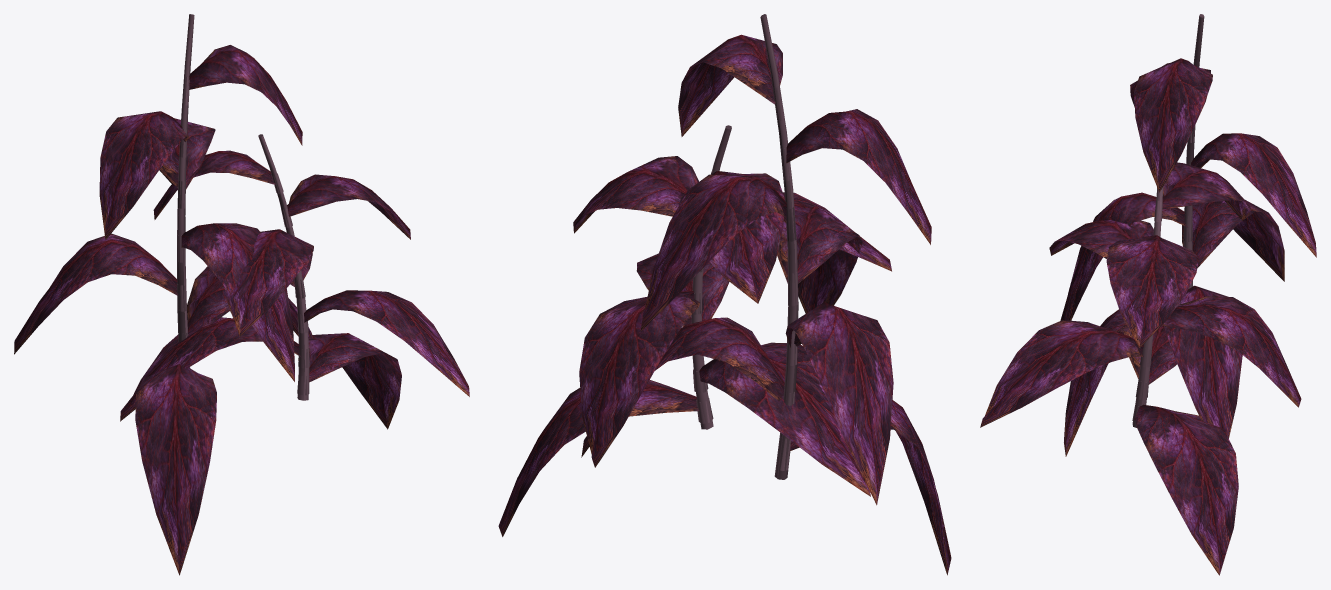
File: broadgrass_09.glb
The picture shows the model from 3 angles, left to right: view 1: azimuth 30°, elevation 25°; view 2: azimuth 150°, elevation 25°; view 3: azimuth 270°, elevation 25°; orthographic projection. The views are drawn at different scales.
Visible parts, largest first — view 1: export; view 2: export; view 3: export.
Part boxes in pixels (box(x1,y1,x2,y2)): export: box(14, 14, 469, 575); export: box(498, 14, 951, 575); export: box(980, 14, 1316, 575).
Size of the model in its own units: 0.773 by 1.06 by 0.6702.
2 materials, 2 textured.
